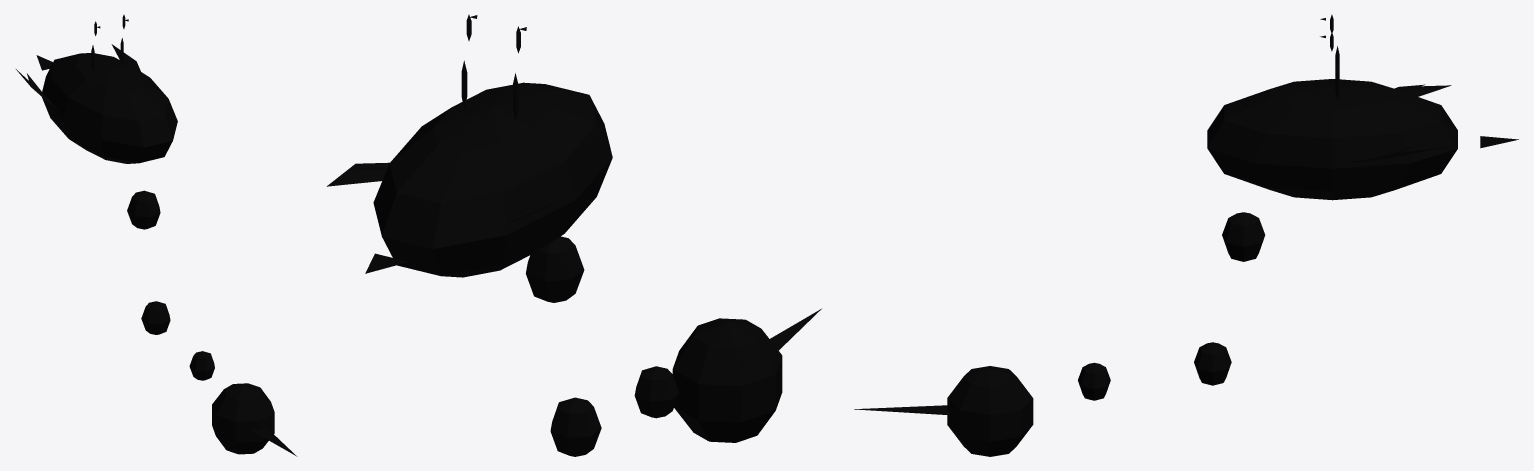
The model's file is standing.glb.
3 views of the same model, side by side, from view 1: azimuth 30°, elevation 25°; view 2: azimuth 150°, elevation 25°; view 3: azimuth 270°, elevation 25° (orthographic). The views are drawn at different scales.
Parts seen in each view (by area): view 1: BirdBody; view 2: BirdBody; view 3: BirdBody.
Part boxes in pixels (x1=…): BirdBody: x1=16, y1=14, x2=297, y2=456; BirdBody: x1=327, y1=14, x2=821, y2=456; BirdBody: x1=854, y1=14, x2=1518, y2=456.
Size of the model in its own units: 0.859 by 2.62 by 3.68.
1 material, 1 textured.
